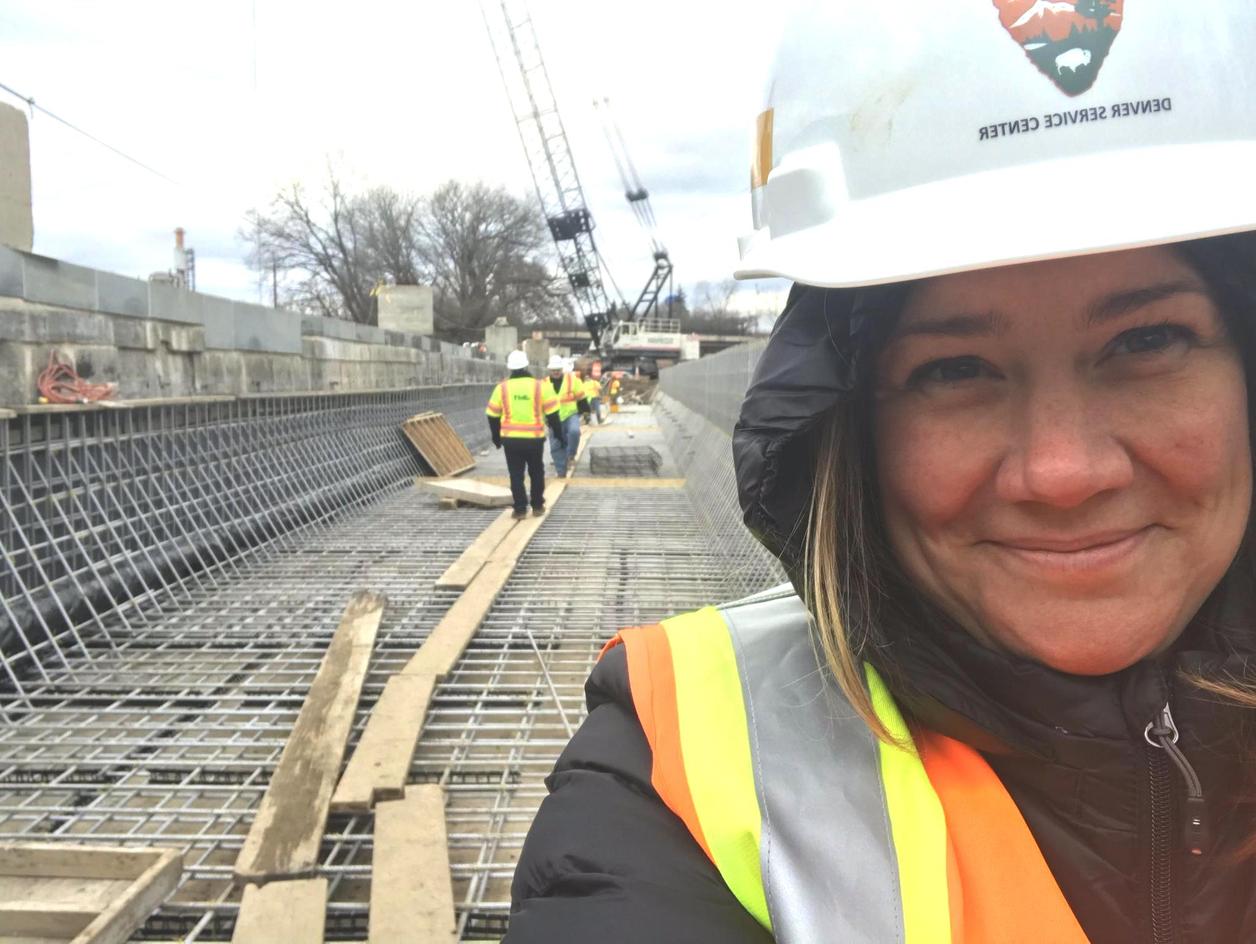helmet: (701, 0, 1256, 311)
person: (642, 0, 1256, 938), (486, 345, 548, 518)
